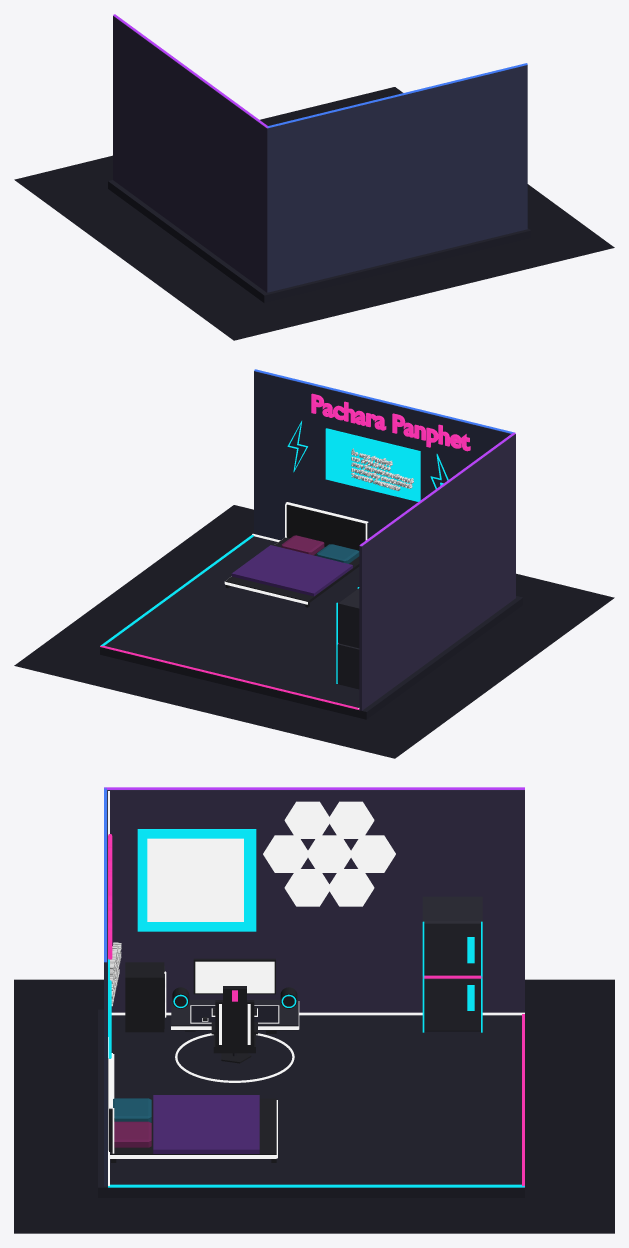
Rendered from room.glb.
3 views of the same model, one above another, from view 1: azimuth 30°, elevation 25°; view 2: azimuth 150°, elevation 25°; view 3: azimuth 270°, elevation 25° (orthographic). The views are drawn at different scales.
Visible parts, largest first — view 1: Cube.013, พื้น, Cube, พื้น2, LED_Top_Back, LED_Top_Left; view 2: พื้น, Cube, พื้น2, Cube.013, Cube.020, Cube.014, Cube.010, Neon_Sign, `ประวัติตัวเอง, Cube.003, Cube.006, Cube.002 (+6 smaller); view 3: พื้น, พื้น2, Cube, Cube.019, Cube.014, Cube.003, Cube.018, Cube.002, PC_Tower, Monitor_Screen, LED_Edge_X, Chair_Back (+19 smaller).
Boxes of the visible parts, x1,y1,x2,y2 form: Cube.013: [267, 65, 527, 292]; พื้น: [14, 87, 614, 340]; Cube: [113, 16, 267, 292]; พื้น2: [108, 180, 530, 303]; LED_Top_Back: [267, 63, 527, 128]; LED_Top_Left: [113, 14, 268, 128]; พื้น: [14, 505, 614, 758]; Cube: [359, 434, 515, 710]; พื้น2: [100, 536, 522, 719]; Cube.013: [254, 371, 510, 540]; Cube.020: [325, 428, 420, 501]; Cube.014: [231, 545, 352, 596]; Cube.010: [286, 504, 368, 550]; Neon_Sign: [311, 393, 470, 451]; `ประวัติตัวเอง: [351, 448, 413, 490]; Cube.003: [338, 588, 359, 648]; Cube.006: [225, 537, 359, 603]; Cube.002: [337, 643, 359, 689]; พื้น: [14, 979, 614, 1233]; พื้น2: [98, 1009, 524, 1197]; Cube: [107, 790, 524, 1012]; Cube.019: [147, 838, 243, 921]; Cube.014: [153, 1095, 259, 1153]; Cube.003: [422, 896, 482, 975]; Cube.018: [137, 829, 256, 931]; Cube.002: [424, 975, 480, 1031]; PC_Tower: [125, 962, 164, 1032]; Monitor_Screen: [195, 961, 274, 993]; LED_Edge_X: [108, 1184, 524, 1187]; Chair_Back: [215, 1000, 254, 1046].
Size of the model in its own units: 20 by 9.07 by 20.
